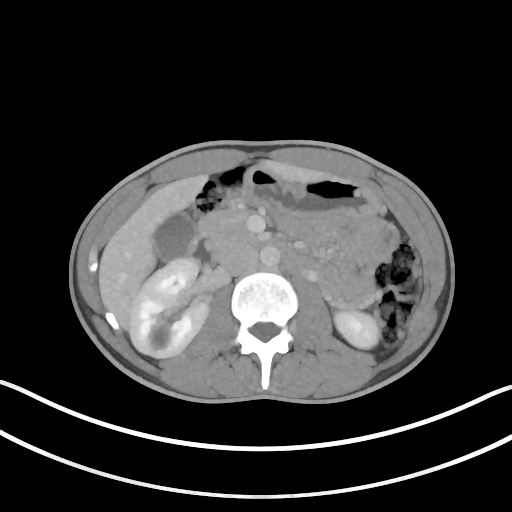Lesion: (167, 274, 183, 292)
